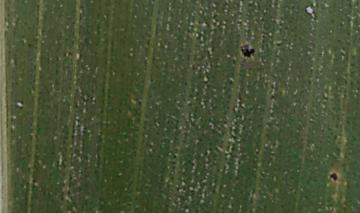tarspot: (239, 40, 257, 61), (327, 168, 340, 185)
